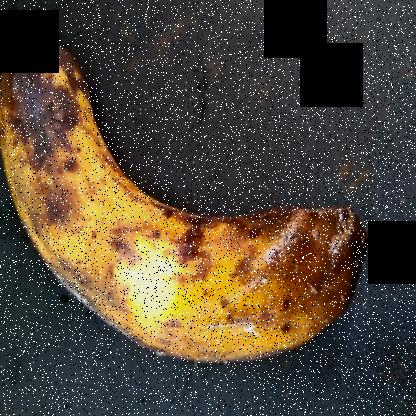rotten: (0, 18, 360, 380)
